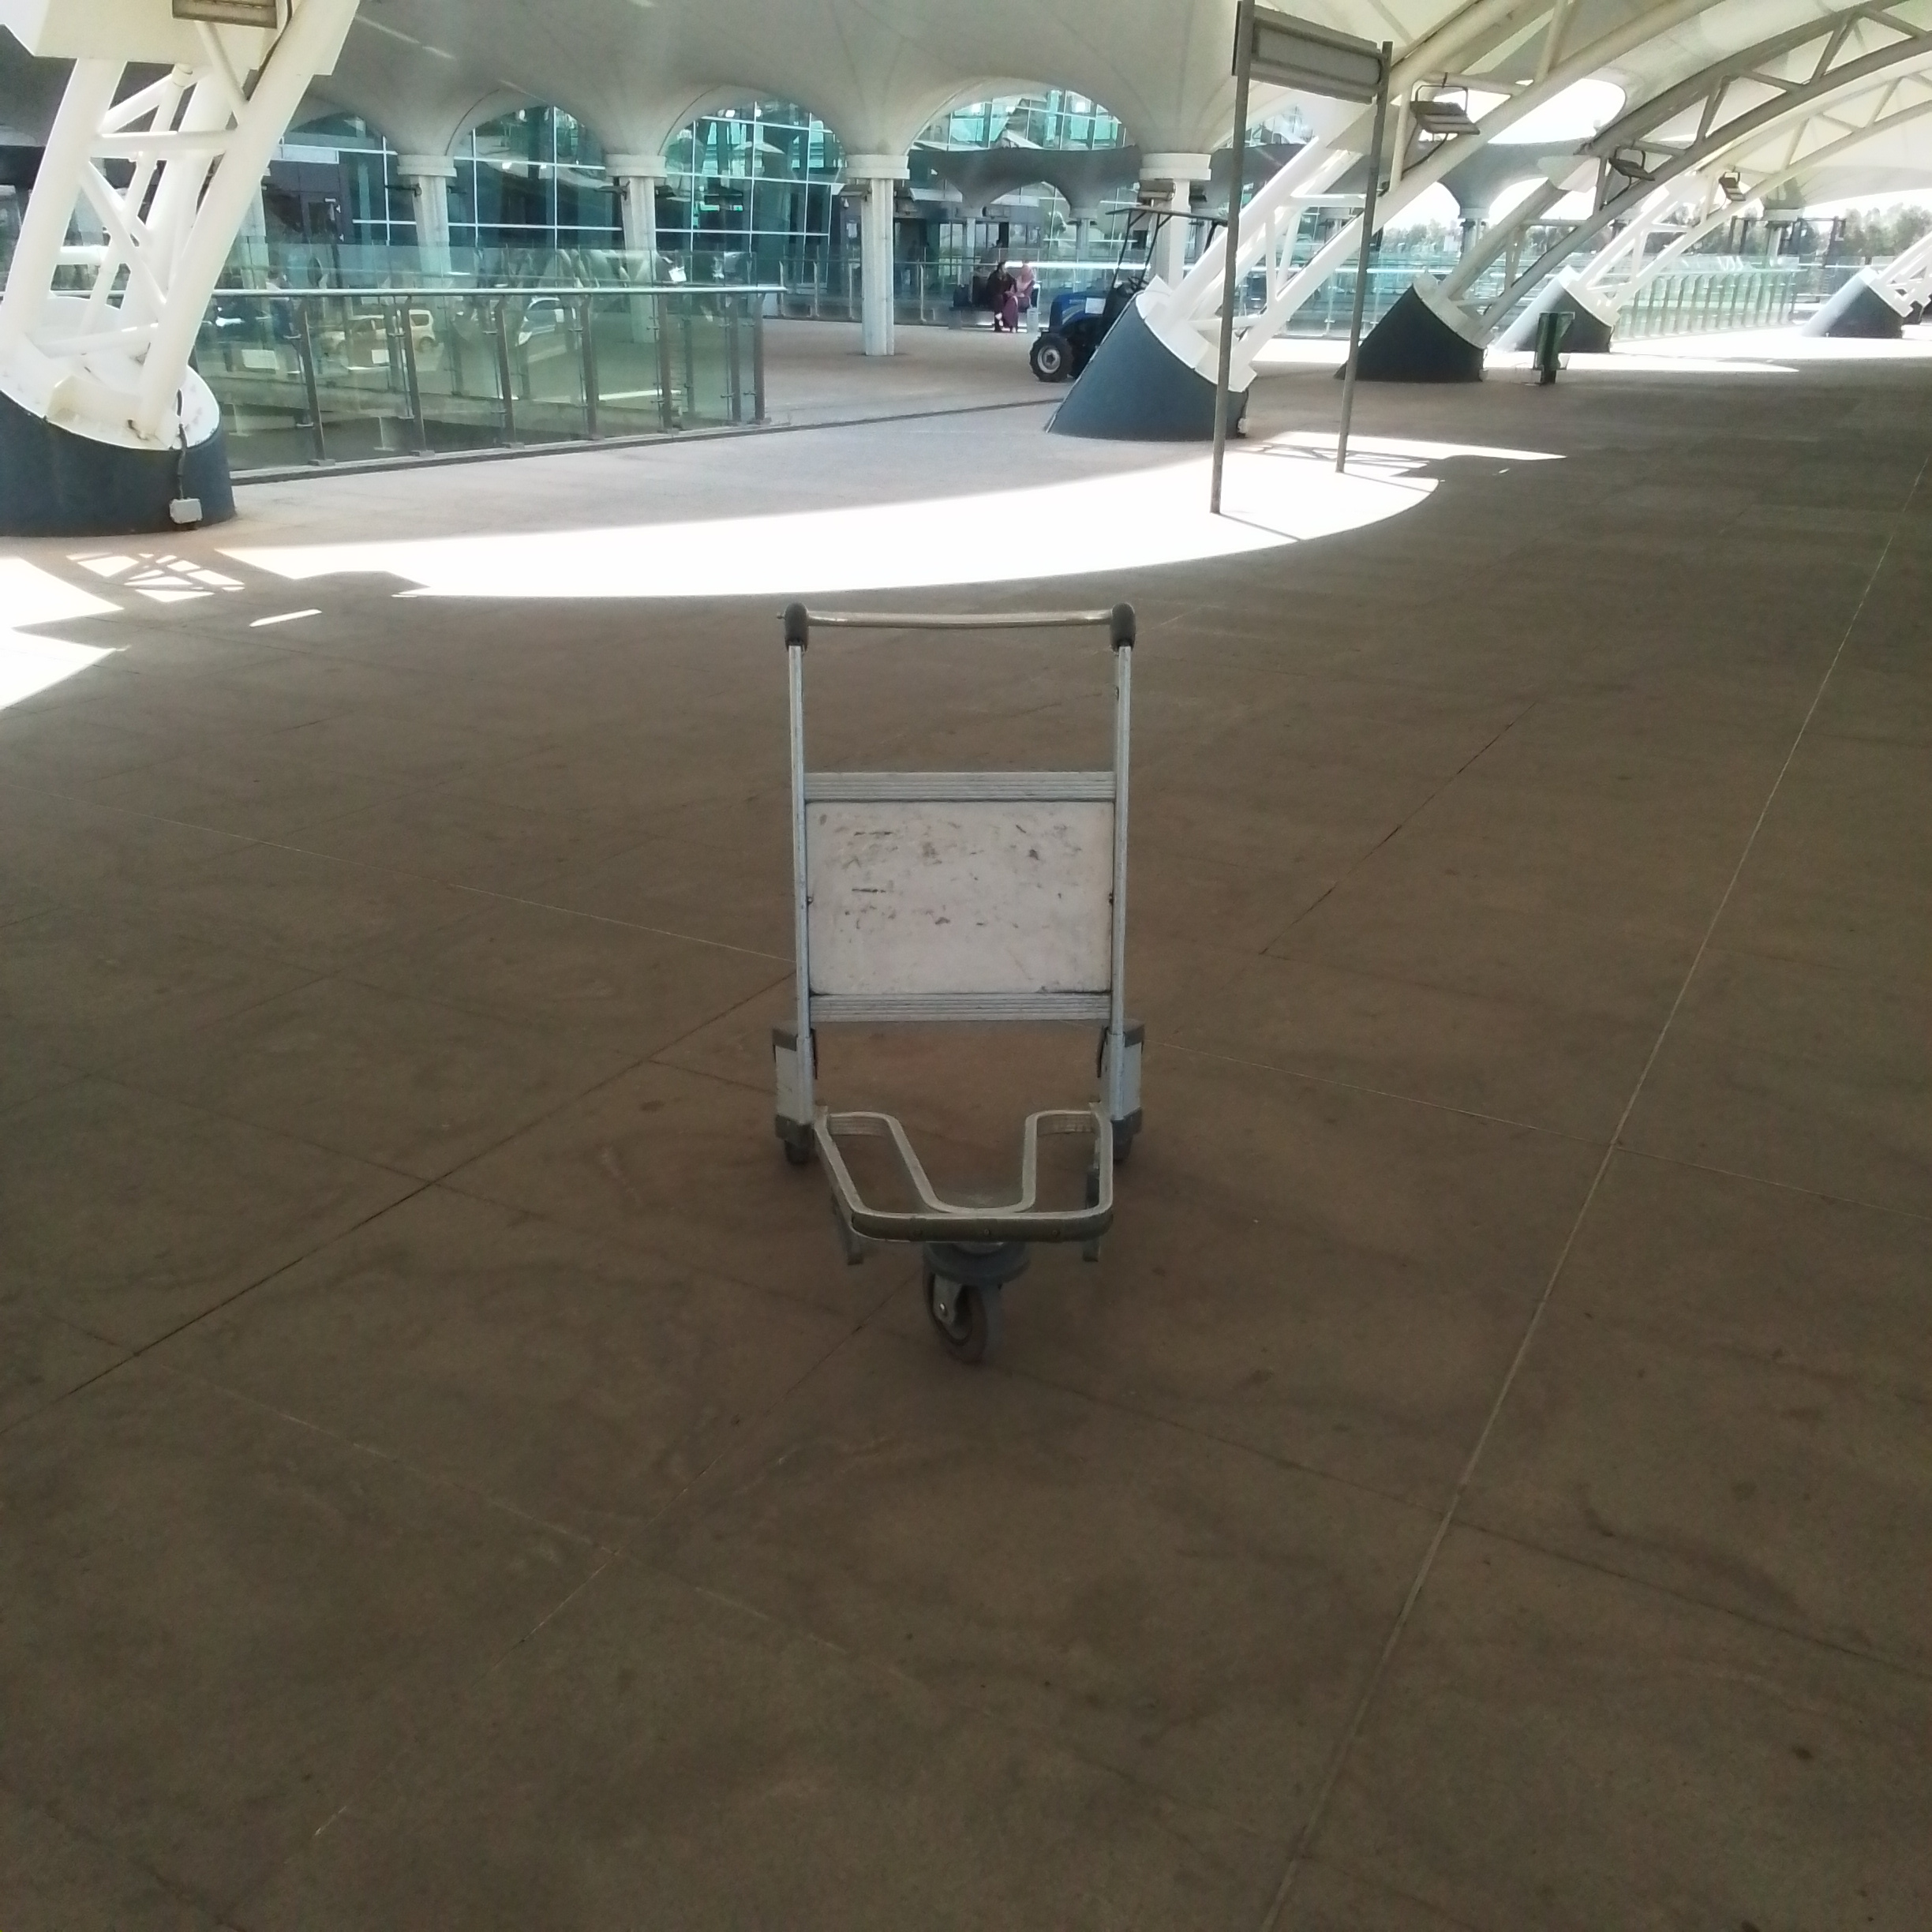airport-trolley: (761, 579, 1168, 1369)
